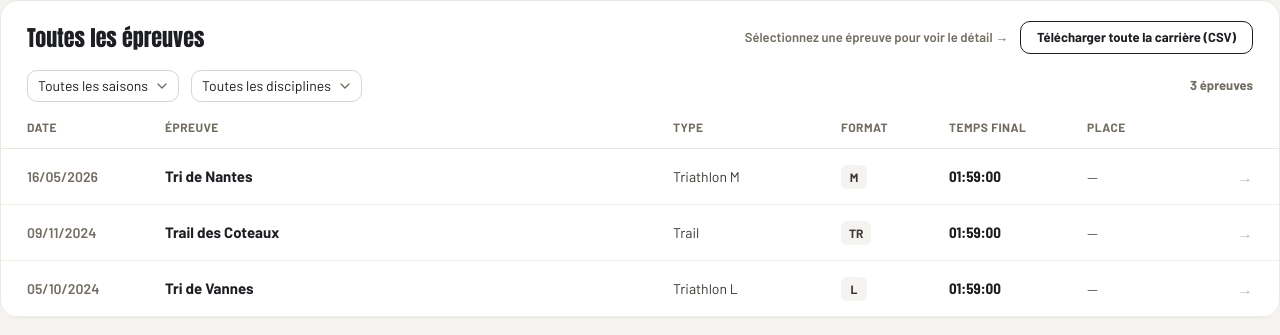
Test: EventsTable › groupe les formats d'une même discipline en une seule entrée
The image size is (1280, 335).
Click the dropdown labelled "Toutes les disciplines ▼" at (276, 86), box x1=191 y1=70 x2=362 y2=102
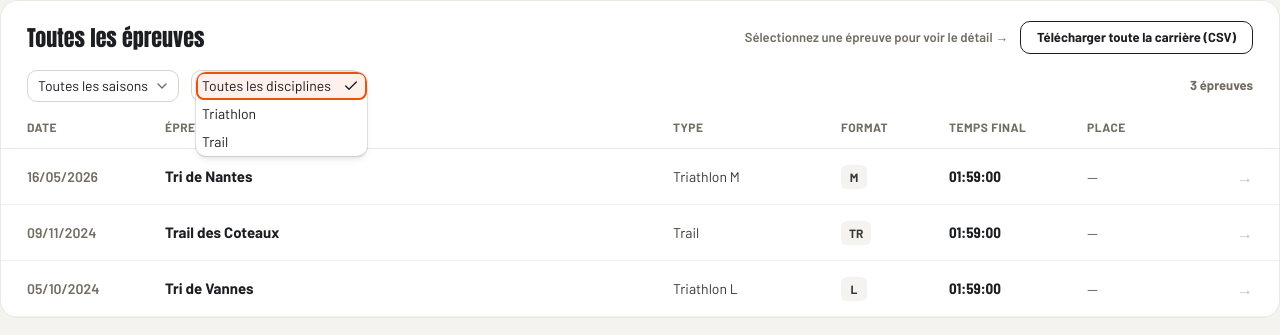
Expected: the options read "Toutes les disciplines", "Triathlon", "Trail", in this order, x1=196 y1=72 x2=367 y2=100; x1=202 y1=105 x2=256 y2=122; x1=202 y1=133 x2=228 y2=150
